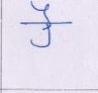ai_matra: (30, 1, 55, 22)
